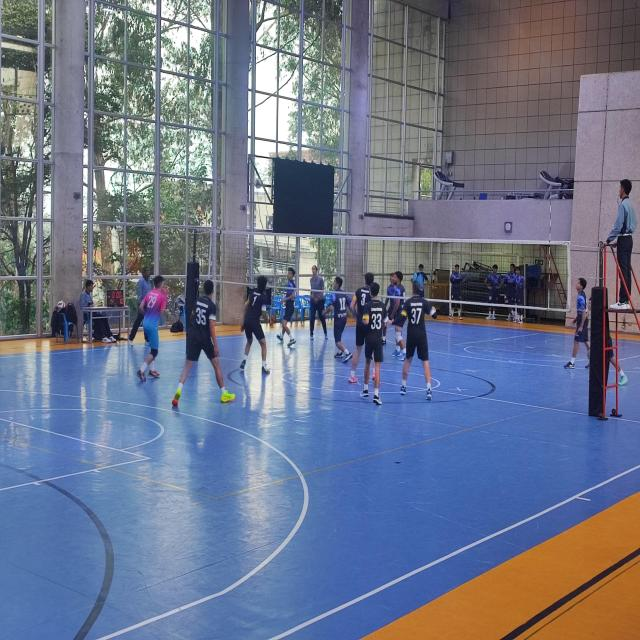volleyball: (57, 300, 65, 310), (255, 178, 262, 188)
